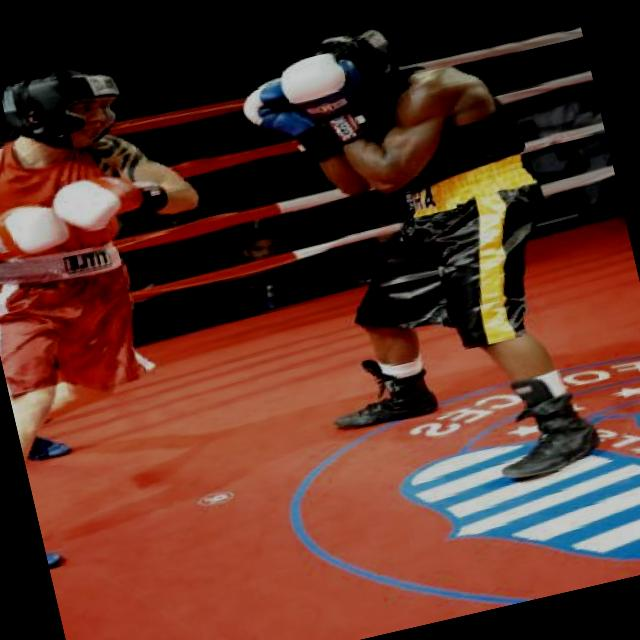Person: (235, 0, 614, 507), (0, 28, 274, 565), (194, 219, 312, 326)
